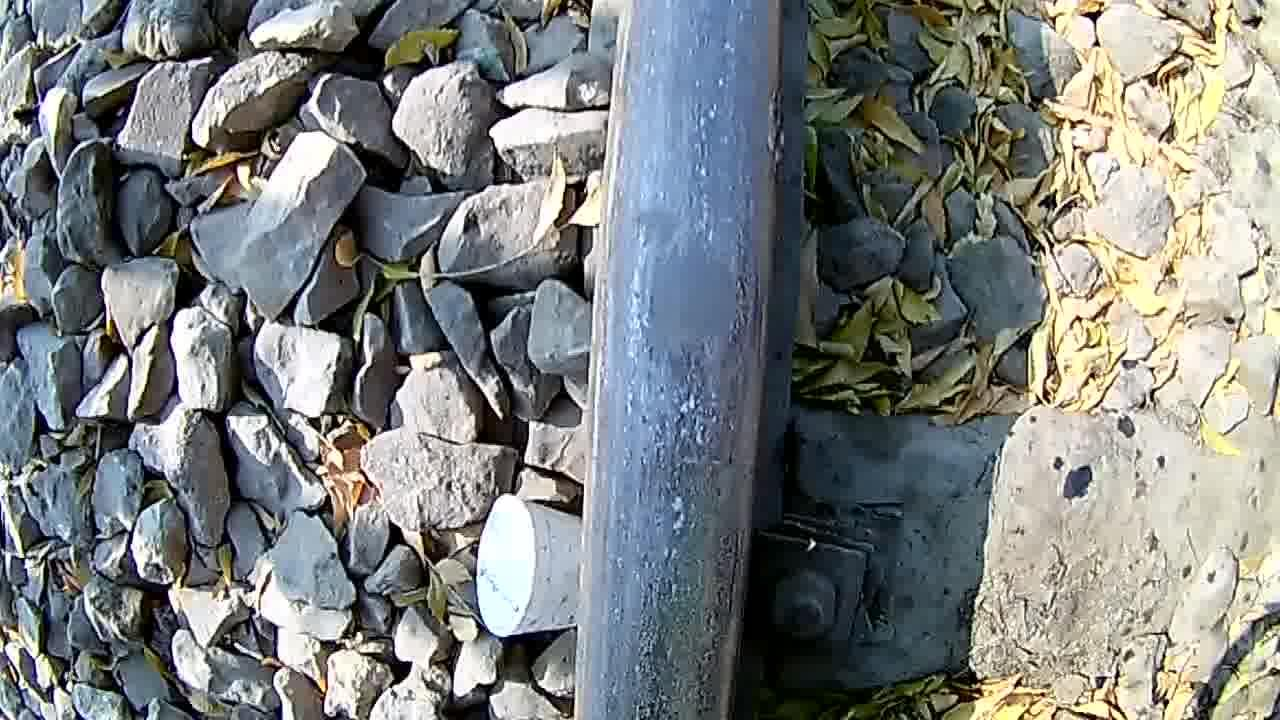bolt_missing: (613, 138, 786, 610)
